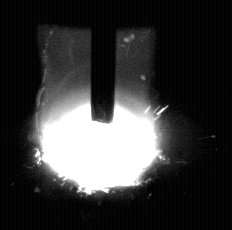arame: (91, 0, 116, 125)
poca: (40, 0, 158, 230)
